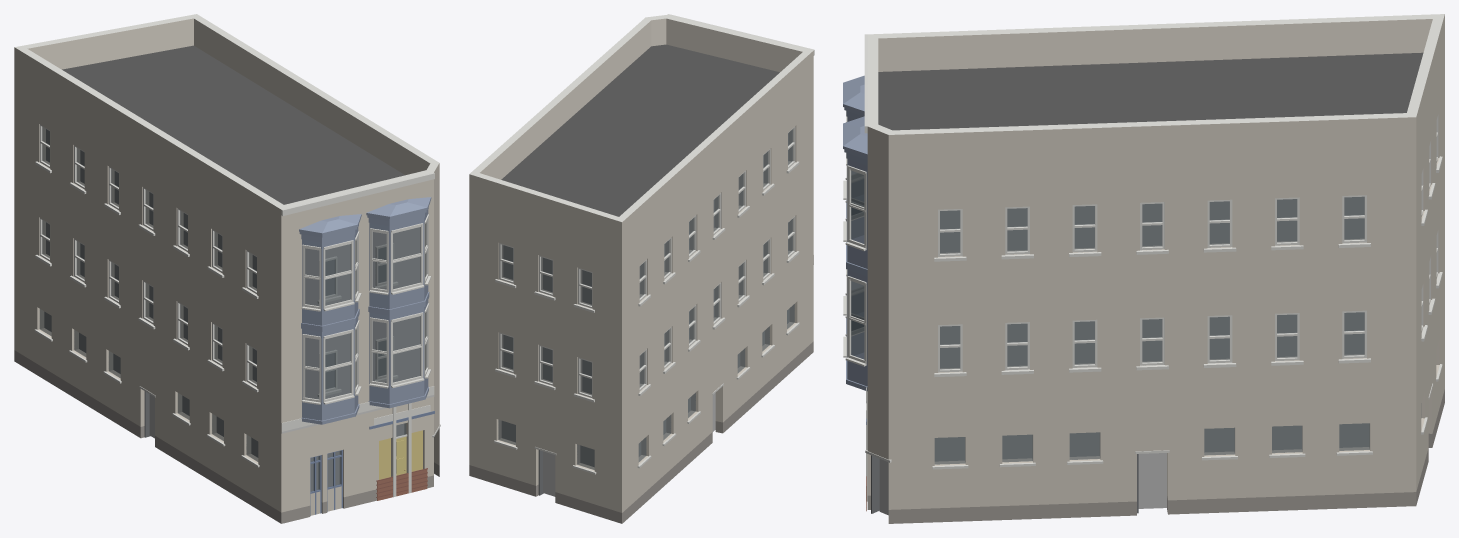
The model's file is exterior.glb.
3 views of the same model, side by side, from view 1: azimuth 30°, elevation 25°; view 2: azimuth 150°, elevation 25°; view 3: azimuth 270°, elevation 25° (orthographic). The views are drawn at different scales.
Visible parts, largest first — view 1: shell, roof, bay-glazing-hyb, shadow-proxy, bay-windows-hyb, glazing, frames, storefront, relief-3, trim; view 2: shell, roof, glazing, frames, shadow-proxy, trim; view 3: shell, roof, shadow-proxy, glazing, frames, bay-windows-hyb, bay-glazing-hyb, trim, storefront.
Part boxes in pixels (<box>): shell: <box>14,14,439,523</box>; roof: <box>62,45,404,204</box>; bay-glazing-hyb: <box>301,214,431,404</box>; shadow-proxy: <box>44,129,419,490</box>; bay-windows-hyb: <box>299,197,431,424</box>; glazing: <box>39,127,406,491</box>; frames: <box>39,124,393,391</box>; storefront: <box>139,386,440,515</box>; relief-3: <box>281,172,434,500</box>; trim: <box>34,161,397,467</box>; shell: <box>469,15,813,523</box>; roof: <box>501,44,779,216</box>; glazing: <box>498,129,794,469</box>; frames: <box>499,126,795,398</box>; shadow-proxy: <box>502,133,789,496</box>; trim: <box>494,161,799,474</box>; shell: <box>867,14,1444,523</box>; roof: <box>878,52,1423,130</box>; shadow-proxy: <box>879,197,1368,515</box>; glazing: <box>934,196,1369,464</box>; frames: <box>938,115,1438,372</box>; bay-windows-hyb: <box>843,75,867,391</box>; bay-glazing-hyb: <box>843,111,866,366</box>; trim: <box>932,156,1442,469</box>; storefront: <box>865,383,1433,513</box>.
Bounding box in the file's own units: 9.28 × 13.81 × 19.37.
